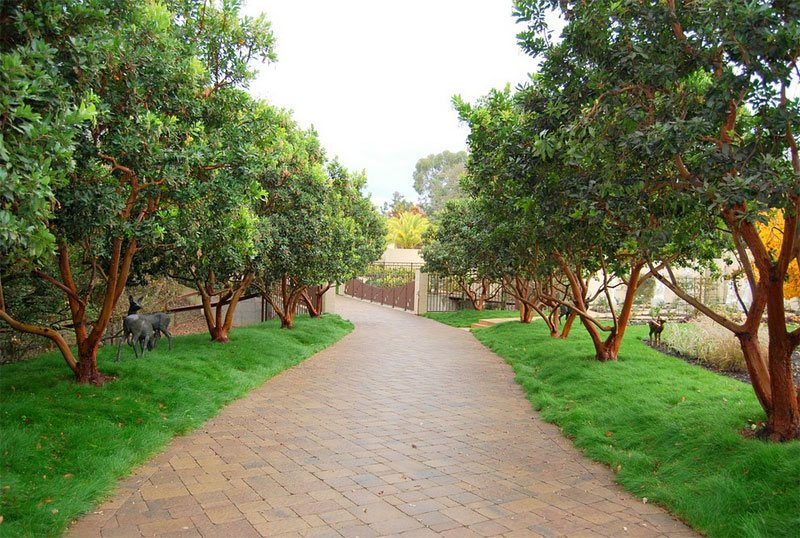tree: (507, 3, 800, 436), (4, 3, 188, 393), (502, 51, 682, 365), (150, 67, 269, 337), (464, 100, 580, 334), (238, 132, 329, 339), (289, 159, 381, 325), (415, 197, 522, 315)
